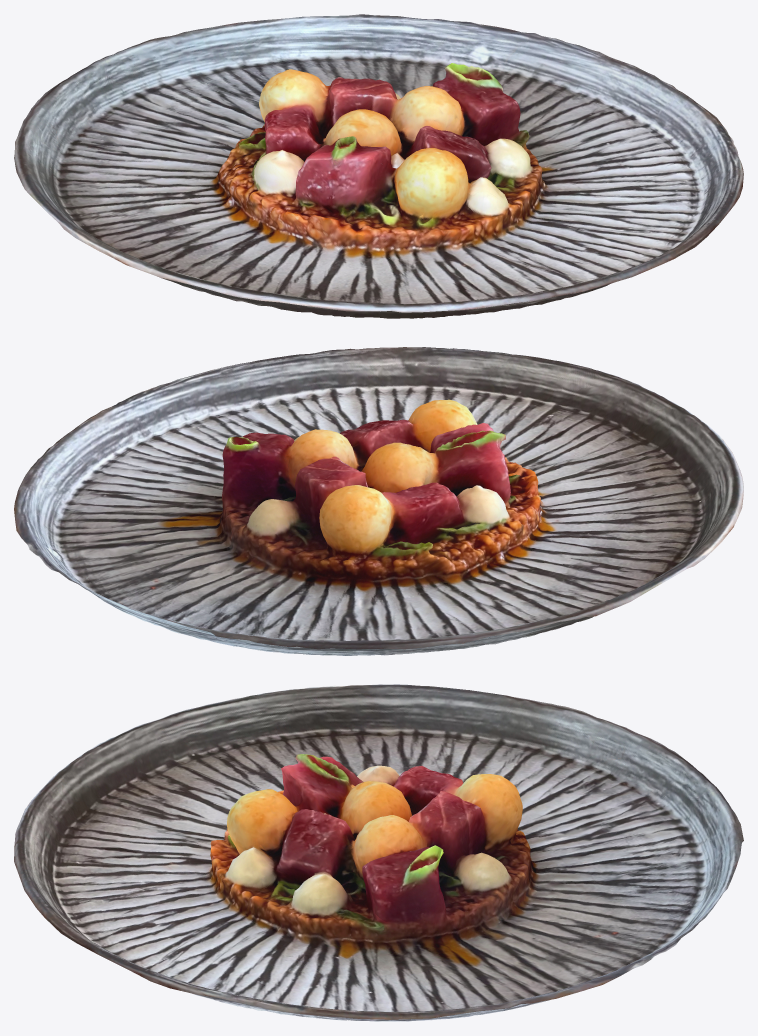
Rendered from tuna.glb.
3 renders of one model, top to bottom at view 1: azimuth 30°, elevation 25°; view 2: azimuth 150°, elevation 25°; view 3: azimuth 270°, elevation 25°, orthographic.
Visible parts, largest first — view 1: Object_2; view 2: Object_2; view 3: Object_2.
Part boxes in pixels (x1,y1,x2,y2): Object_2: (14, 14, 743, 318); Object_2: (14, 347, 743, 655); Object_2: (14, 684, 743, 1021).
Size of the model in its own units: 293 by 42.44 by 293.
Materials: 1 (1 with a texture image).
